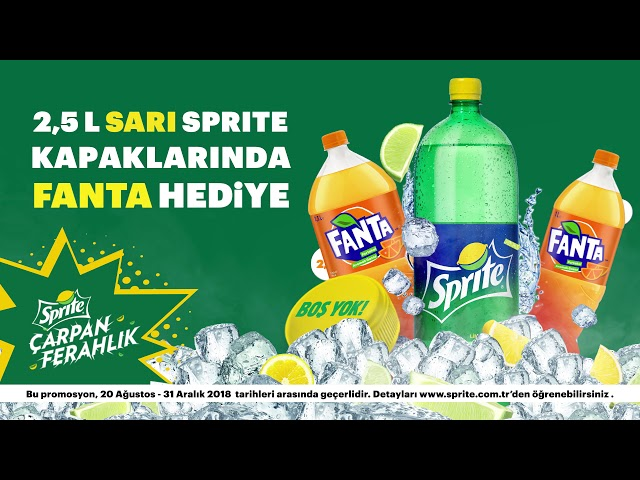sprite: (427, 254, 502, 310)
